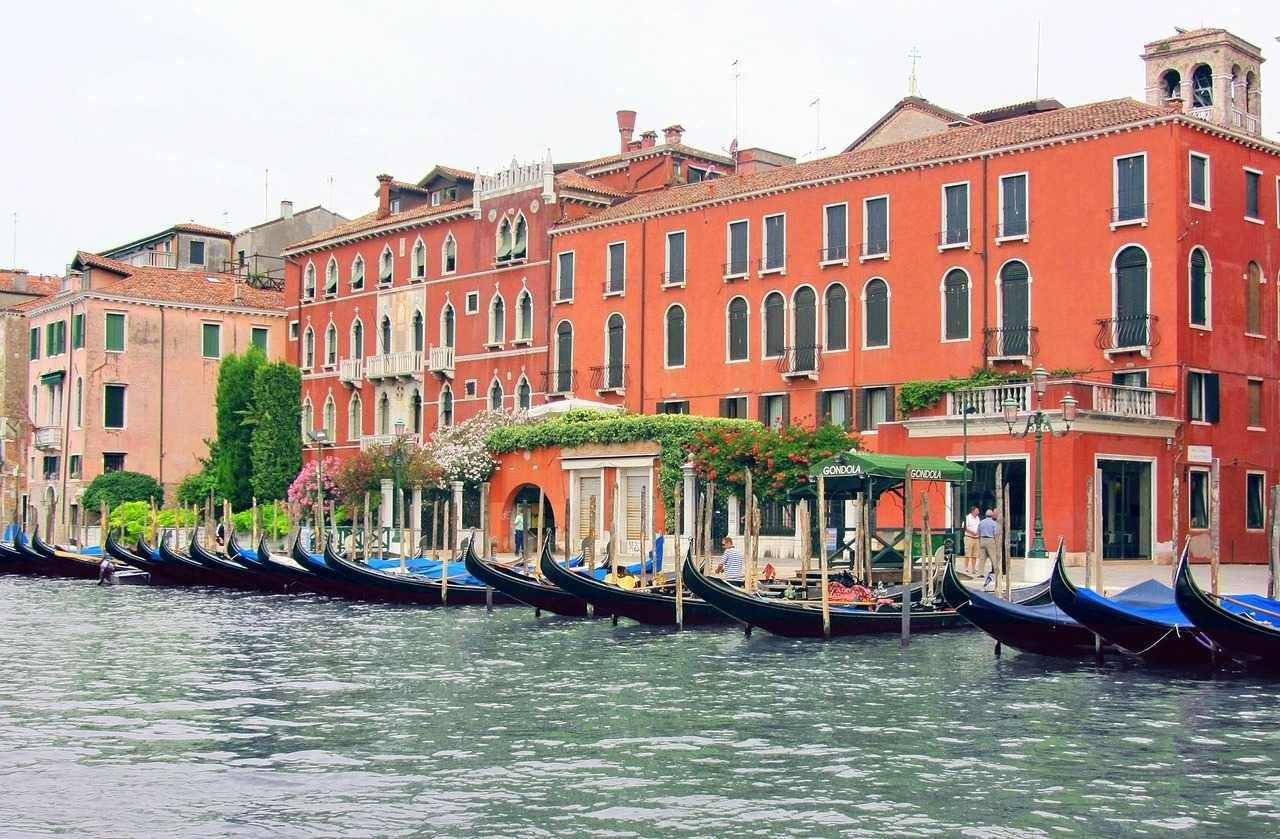kayak: (681, 556, 969, 641), (1050, 538, 1219, 668), (941, 551, 1116, 662), (538, 547, 728, 628), (1174, 538, 1280, 671), (462, 544, 596, 619), (320, 548, 492, 606), (188, 543, 310, 590), (107, 544, 211, 584), (36, 543, 116, 580)
